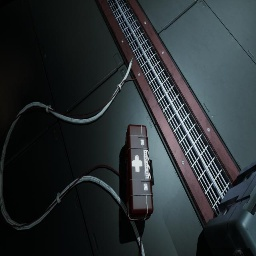FirstAidBox ,: (125, 124, 154, 221)
